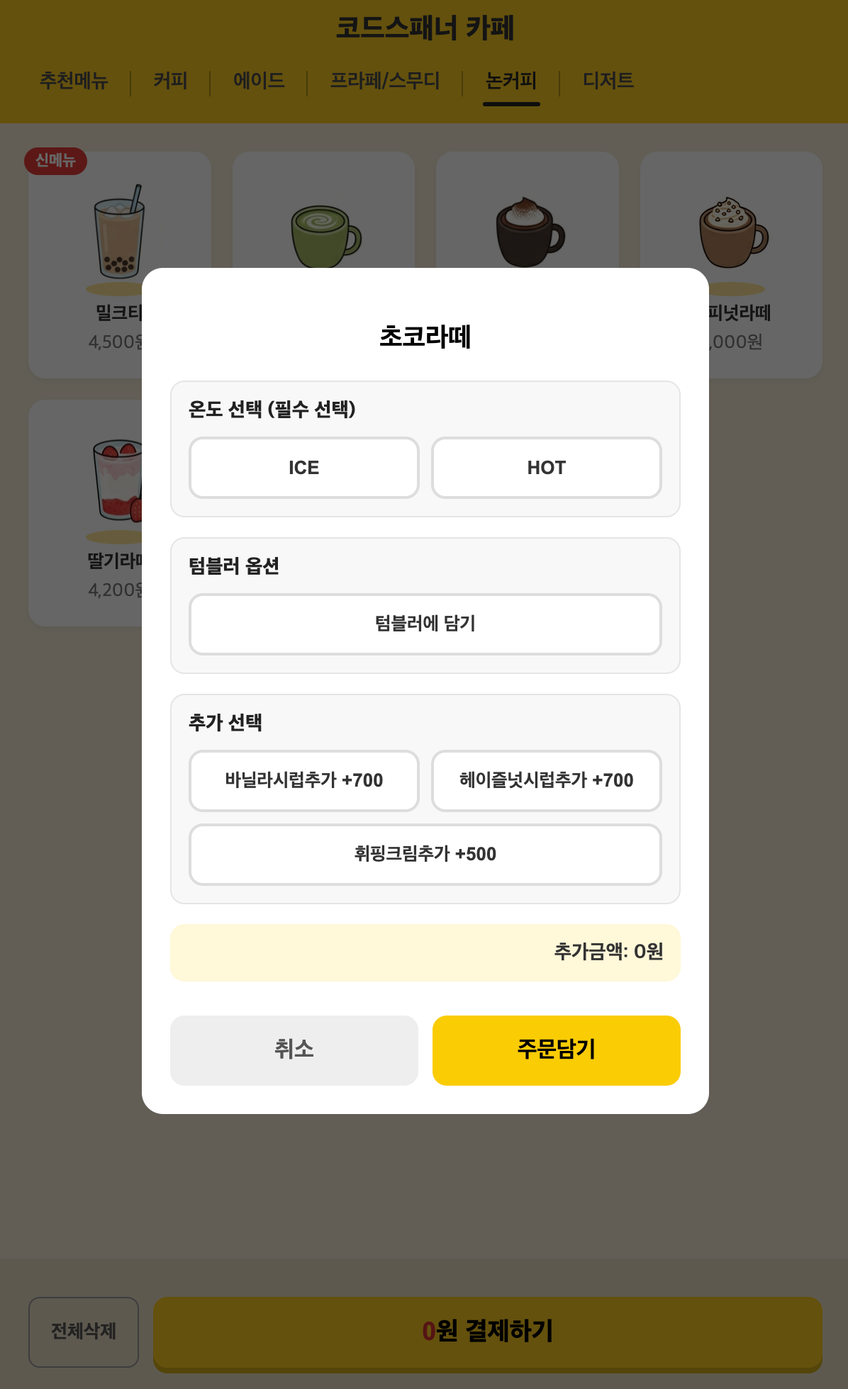action_button: (188, 593, 662, 656), (189, 824, 662, 886), (432, 1015, 681, 1085), (171, 1015, 419, 1085), (188, 749, 420, 813), (431, 749, 663, 812), (430, 436, 662, 499), (188, 437, 420, 500)
popup_modal: (141, 267, 709, 1115)
